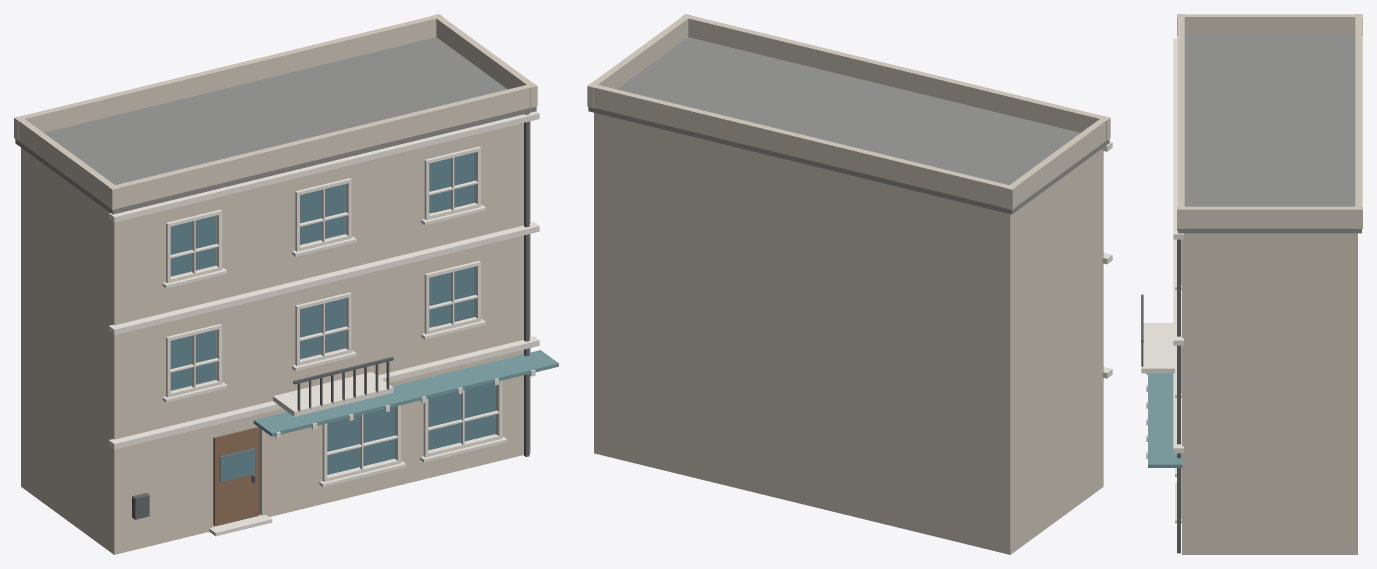
File: NearFieldResidence_Refined.fbx
3 views of the same model, side by side, from view 1: azimuth 30°, elevation 25°; view 2: azimuth 150°, elevation 25°; view 3: azimuth 270°, elevation 25° (orthographic). The views are drawn at different scales.
Parts seen in each view (by area): view 1: NearFieldResidence_Refined; view 2: NearFieldResidence_Refined; view 3: NearFieldResidence_Refined.
Boxes of the visible parts, bbox=[...] form: NearFieldResidence_Refined: bbox=[14, 14, 558, 554]; NearFieldResidence_Refined: bbox=[587, 14, 1112, 554]; NearFieldResidence_Refined: bbox=[1141, 14, 1362, 554].
Size of the model in its own units: 1066 by 870 by 504.
